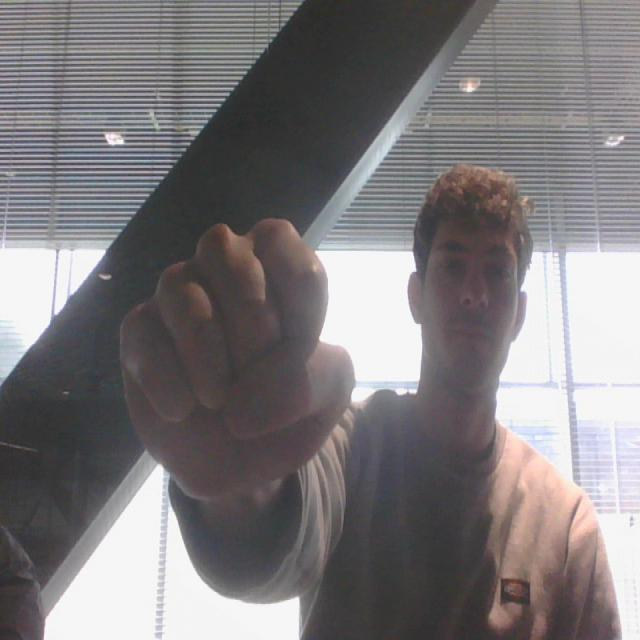stop: (105, 207, 362, 509)
